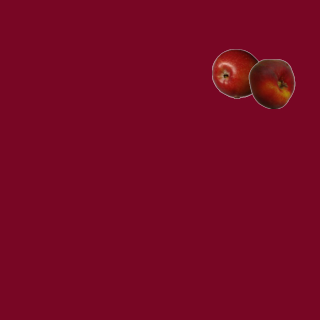Apple Braeburn: (211, 48, 261, 98)
Nectarine Flat: (246, 58, 296, 108)
